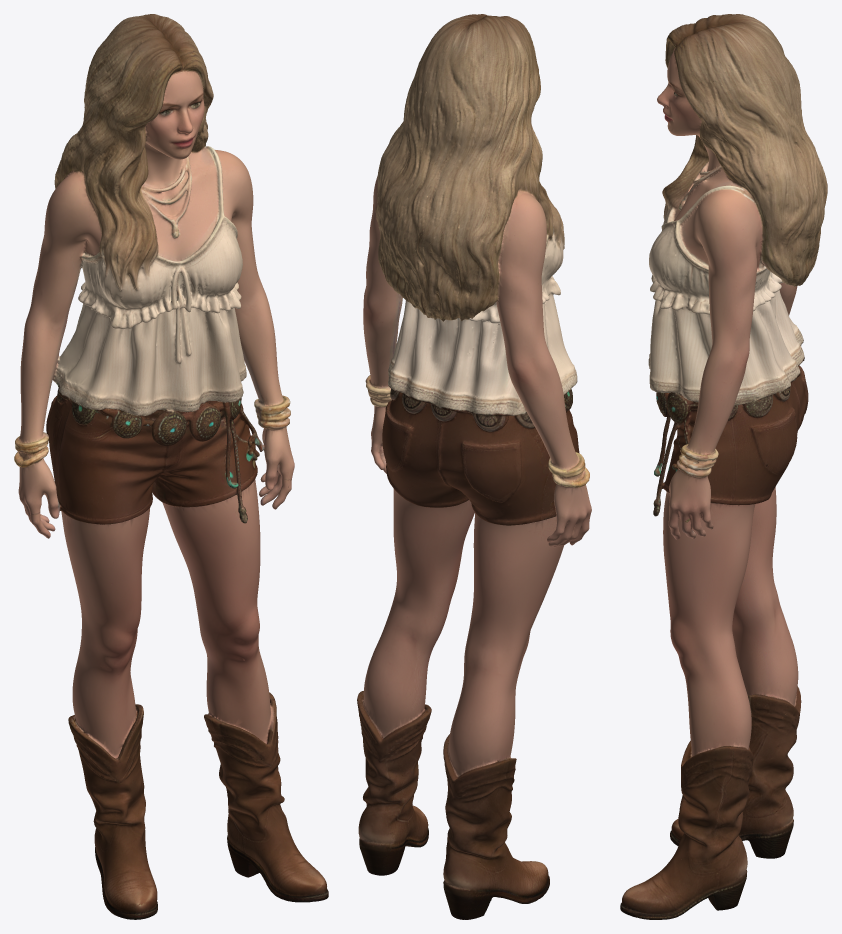
Rendered from Meshy_AI_Boho_Western_Muse_0514131922_texture.glb.
3 renders of one model, left to right at view 1: azimuth 30°, elevation 25°; view 2: azimuth 150°, elevation 25°; view 3: azimuth 270°, elevation 25°, orthographic. The views are drawn at different scales.
Bounding box in the file's own units: 0.5765 × 1.9 × 0.4245.
1 material, 1 textured.
